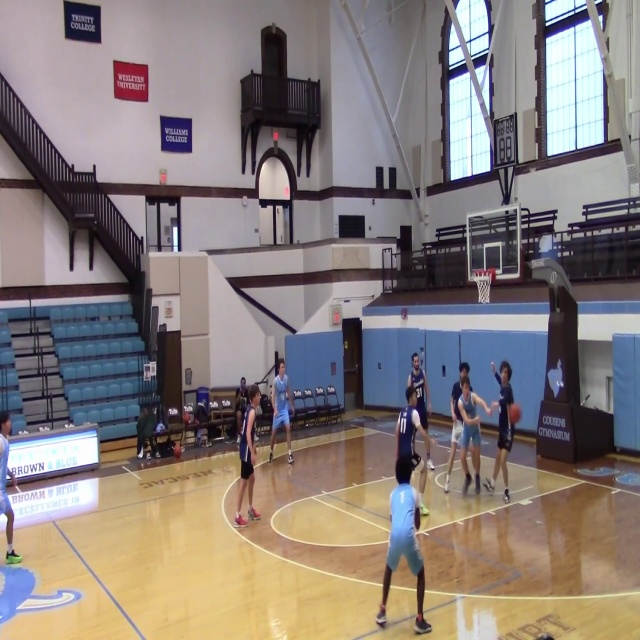Basketball: (508, 403, 521, 423), (173, 445, 181, 458)
